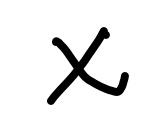mult: (46, 27, 129, 105)
